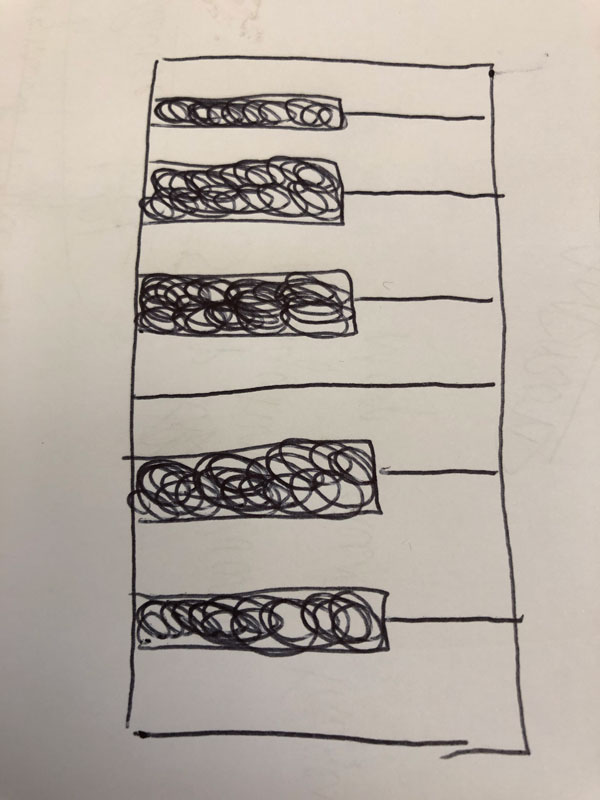piano: (125, 54, 535, 756)
